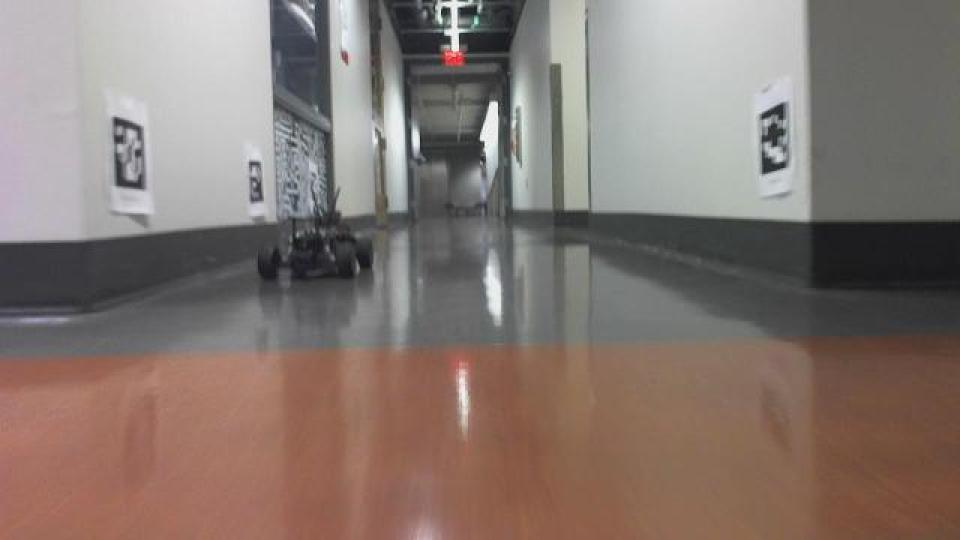car: (252, 181, 376, 285)
